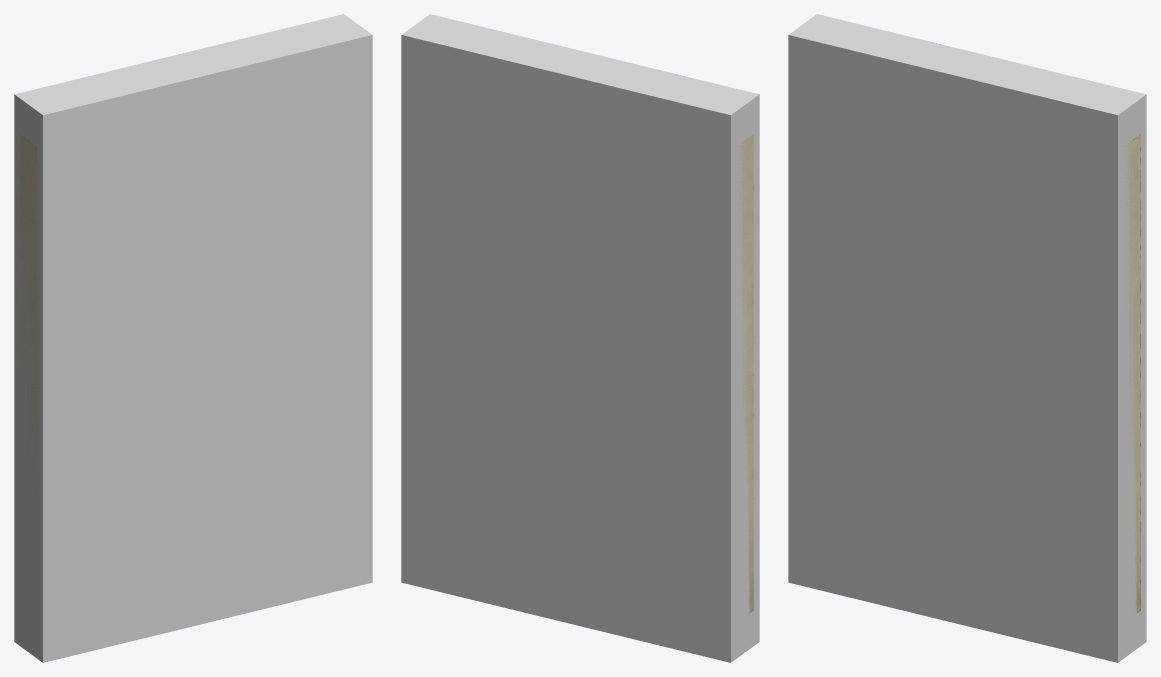
The model's file is house_wall_plain.glb.
The picture shows the model from 3 angles, left to right: view 1: azimuth 30°, elevation 25°; view 2: azimuth 150°, elevation 25°; view 3: azimuth 330°, elevation 25°; orthographic projection.
Parts seen in each view (by area): view 1: COL_house_wall_plain_static_00, house_wall_plain_static; view 2: COL_house_wall_plain_static_00, house_wall_plain_static; view 3: COL_house_wall_plain_static_00, house_wall_plain_static.
Part boxes in pixels (x1,y1,x2,y2): COL_house_wall_plain_static_00: [14, 14, 372, 662]; house_wall_plain_static: [20, 134, 37, 510]; COL_house_wall_plain_static_00: [401, 14, 759, 662]; house_wall_plain_static: [737, 134, 753, 613]; COL_house_wall_plain_static_00: [788, 14, 1146, 662]; house_wall_plain_static: [1124, 134, 1140, 613].
Size of the model in its own units: 1.75 by 2.78 by 0.2629.
Materials: 2 (2 with a texture image).
